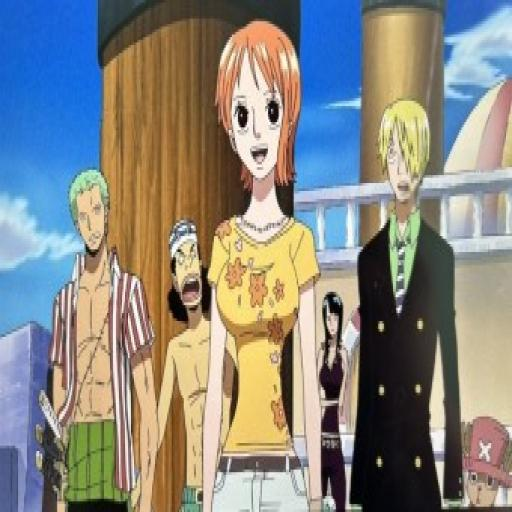Nami: (214, 16, 310, 204)
NicoRobin: (318, 284, 348, 362)
Usopp: (167, 212, 208, 320)
Zoro: (68, 159, 114, 259)
sanji: (376, 90, 436, 207)
